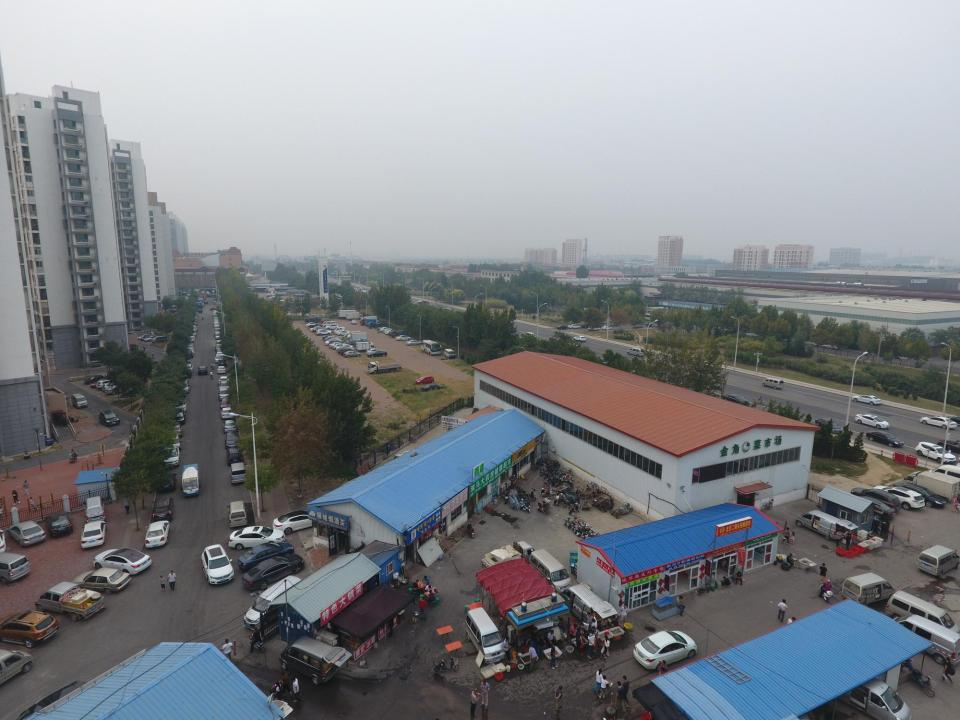bus: (422, 339, 441, 355)
car: (243, 575, 304, 631), (34, 581, 106, 619), (633, 629, 698, 670), (464, 607, 504, 664), (0, 610, 59, 648), (240, 554, 304, 588), (842, 572, 896, 606), (92, 546, 152, 574), (238, 542, 294, 572), (869, 484, 926, 512), (228, 526, 287, 551), (72, 568, 130, 592), (893, 482, 946, 508), (916, 546, 960, 577), (202, 544, 234, 586), (850, 487, 902, 512), (0, 648, 33, 686), (272, 510, 319, 534), (854, 496, 894, 521), (8, 520, 46, 545), (0, 552, 31, 582), (914, 441, 956, 463), (144, 520, 169, 548), (81, 520, 106, 548), (866, 430, 904, 448), (44, 512, 72, 535), (855, 413, 890, 429), (182, 464, 199, 496), (152, 498, 173, 522), (229, 500, 247, 528), (918, 416, 956, 429), (85, 496, 105, 520), (815, 417, 842, 434), (160, 444, 180, 466), (161, 431, 182, 449), (230, 462, 246, 484), (157, 473, 176, 491), (99, 409, 120, 425), (226, 447, 243, 465), (852, 394, 882, 404), (169, 407, 186, 423), (165, 422, 183, 437), (71, 393, 87, 408), (225, 432, 240, 448), (104, 385, 125, 395), (84, 374, 104, 384), (223, 419, 237, 433), (172, 400, 188, 412), (178, 378, 190, 394), (89, 378, 106, 387), (627, 348, 645, 356), (416, 376, 434, 384), (221, 407, 234, 418), (96, 380, 113, 388), (368, 350, 387, 357), (220, 397, 232, 408), (102, 382, 116, 391), (573, 335, 587, 343), (219, 386, 229, 397), (343, 351, 361, 357), (405, 340, 422, 346), (444, 349, 455, 358), (146, 335, 160, 342), (395, 335, 411, 341), (218, 376, 228, 385), (198, 365, 207, 375), (152, 336, 167, 342), (588, 325, 600, 332), (183, 364, 193, 372), (214, 355, 224, 363), (567, 324, 580, 330), (138, 334, 150, 340), (600, 325, 612, 331), (632, 323, 644, 329), (386, 328, 398, 334), (556, 324, 566, 331), (525, 332, 536, 338), (217, 366, 225, 373), (215, 351, 223, 358), (216, 339, 222, 347), (215, 332, 221, 340), (380, 327, 389, 332), (600, 321, 608, 326), (216, 348, 222, 354), (214, 324, 220, 330), (214, 320, 219, 324), (213, 317, 217, 321), (213, 312, 216, 316)
truck: (480, 541, 536, 572), (367, 360, 402, 372), (360, 315, 378, 326), (356, 342, 376, 351), (364, 318, 380, 326), (389, 330, 405, 336)
van: (885, 590, 959, 640), (278, 634, 347, 683), (838, 674, 909, 720), (560, 583, 618, 632), (895, 612, 958, 652), (794, 509, 852, 541), (529, 549, 573, 591), (725, 393, 749, 405), (762, 377, 783, 389)
